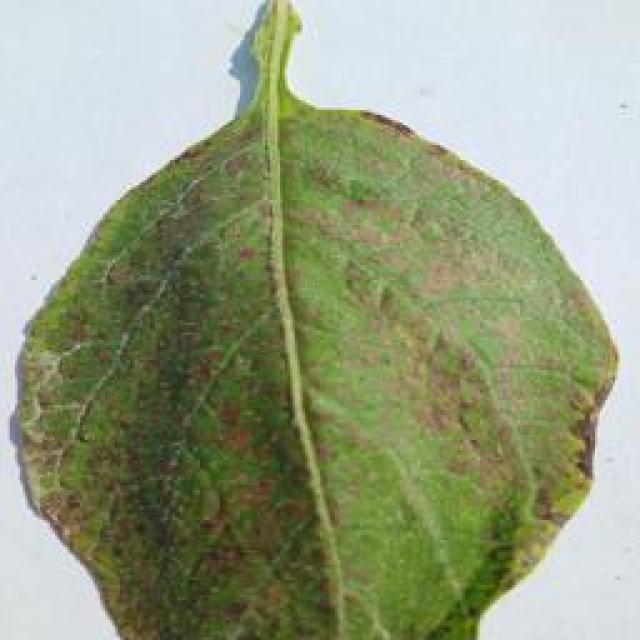Potato_Early_Blight: (15, 99, 632, 640)
